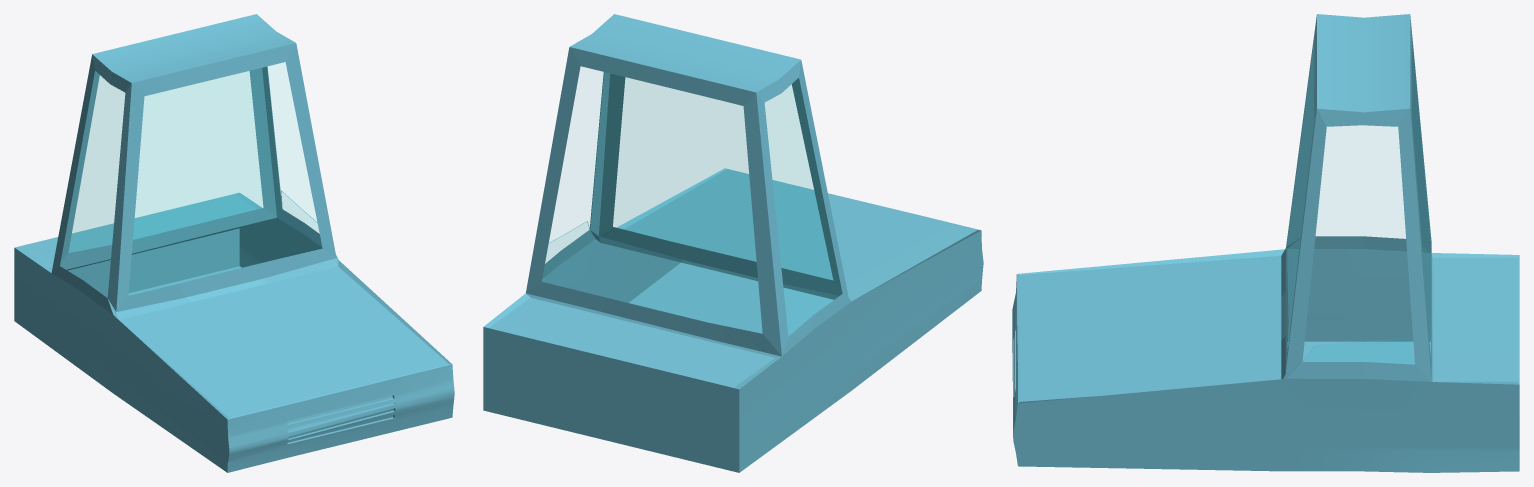
Rendered from Car_CK_Test_body.fbx.
3 views of the same model, side by side, from view 1: azimuth 30°, elevation 25°; view 2: azimuth 150°, elevation 25°; view 3: azimuth 270°, elevation 25° (orthographic). The views are drawn at different scales.
Parts seen in each view (by area): view 1: pCube1; view 2: pCube1; view 3: pCube1.
Part boxes in pixels (box(x1,y1,x2,y2)): pCube1: box(14, 14, 454, 472); pCube1: box(483, 14, 983, 472); pCube1: box(1012, 14, 1519, 472).
Bounding box in the file's own units: 9.12 × 11.2 × 14.88.
